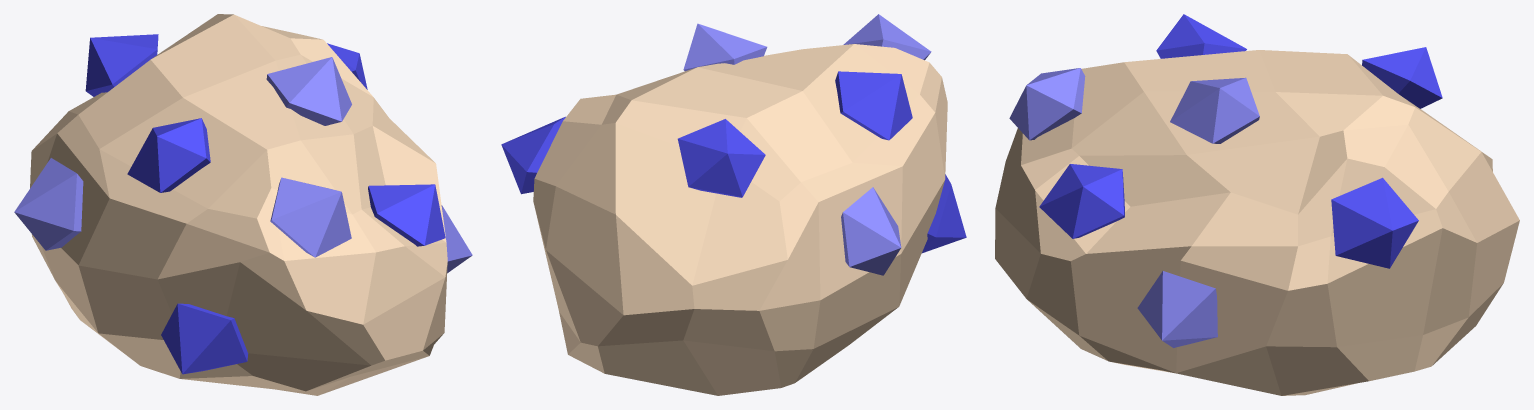
The model's file is MineralNode_02_B.fbx.
The picture shows the model from 3 angles, left to right: view 1: azimuth 30°, elevation 25°; view 2: azimuth 150°, elevation 25°; view 3: azimuth 270°, elevation 25°; orthographic projection. The views are drawn at different scales.
Parts seen in each view (by area): view 1: MineralNode_02_B; view 2: MineralNode_02_B; view 3: MineralNode_02_B.
Boxes of the visible parts, x1=… form: MineralNode_02_B: x1=14, y1=14, x2=472, y2=395; MineralNode_02_B: x1=501, y1=14, x2=966, y2=395; MineralNode_02_B: x1=995, y1=14, x2=1519, y2=395.
Size of the model in its own units: 84.83 by 62.61 by 103.
